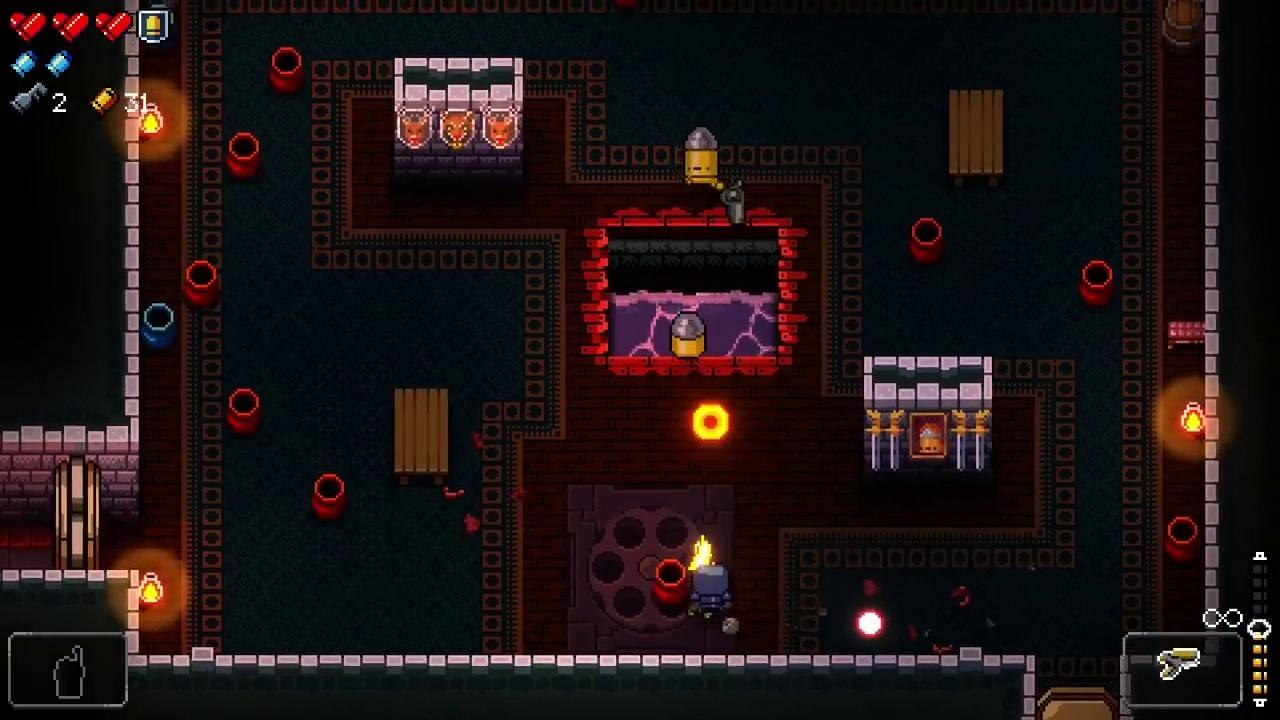bullet: (855, 609, 884, 638)
bullet_kin: (684, 126, 719, 185), (670, 310, 707, 360)
locked_door: (54, 451, 100, 569)
player: (692, 563, 731, 617)
table: (395, 388, 450, 487), (949, 90, 1003, 187)
teleporter: (567, 484, 737, 652)
water_pit: (582, 206, 809, 378)
